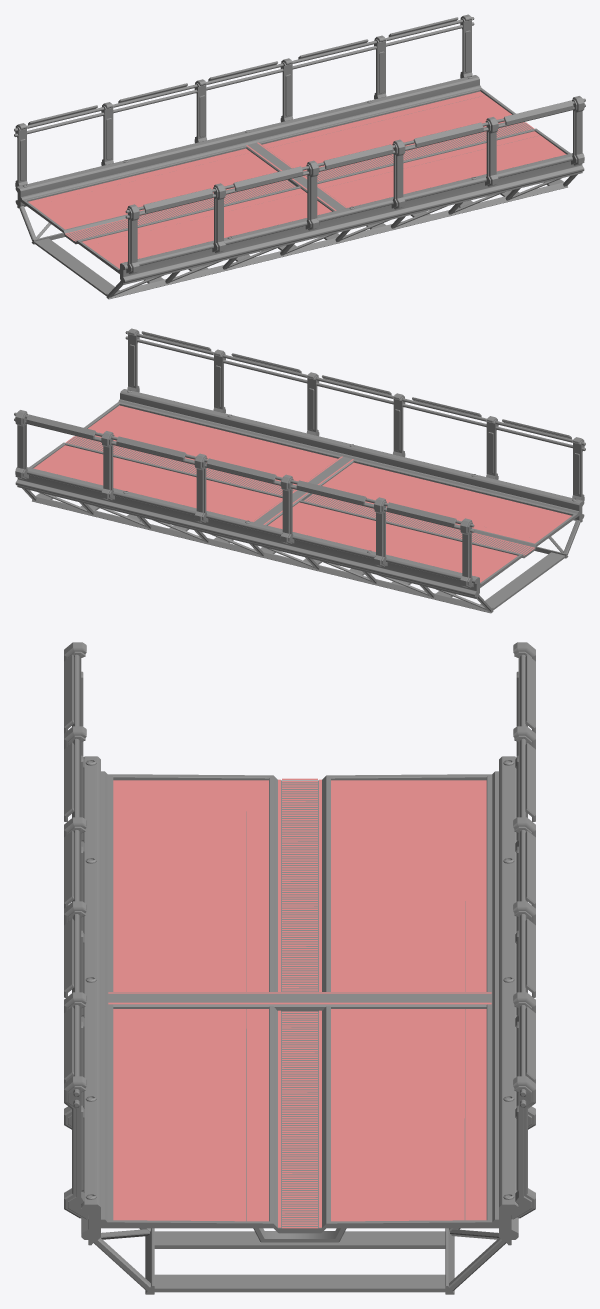
Rendered from walkwaystraight.fbx.
The picture shows the model from 3 angles, top to bottom: view 1: azimuth 30°, elevation 25°; view 2: azimuth 150°, elevation 25°; view 3: azimuth 270°, elevation 25°; orthographic projection. The views are drawn at different scales.
Parts seen in each view (by area): view 1: Walkway_Straight; view 2: Walkway_Straight; view 3: Walkway_Straight.
Boxes of the visible parts, left/top/right/bottom form: Walkway_Straight: left=14, top=14, right=585, bottom=299; Walkway_Straight: left=14, top=328, right=585, bottom=613; Walkway_Straight: left=64, top=642, right=535, bottom=1294.
Size of the model in its own units: 802 by 174 by 356.
